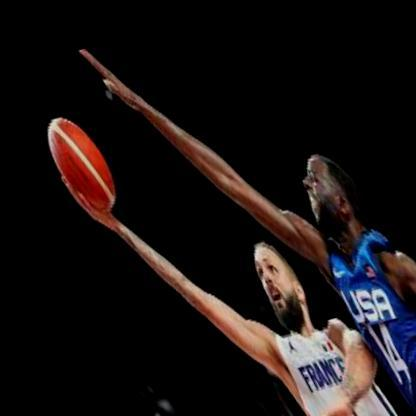basketball: (24, 102, 124, 219)
